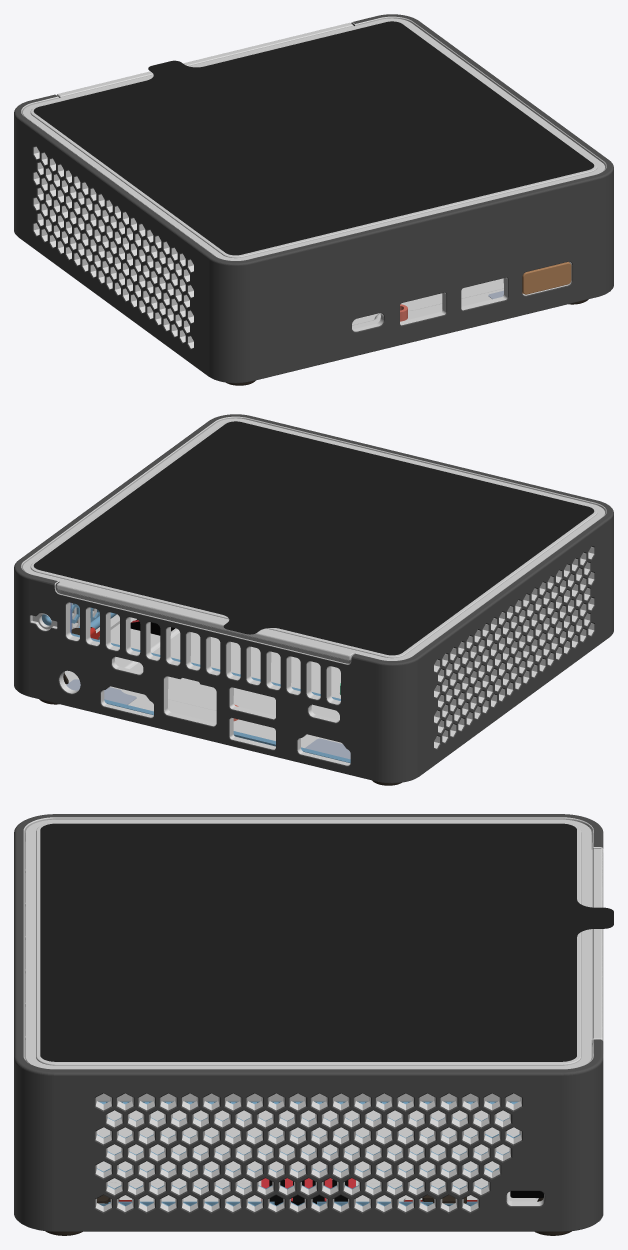
Rendered from NUC14PRO_slim.obj.
3 views of the same model, one above another, from view 1: azimuth 30°, elevation 25°; view 2: azimuth 150°, elevation 25°; view 3: azimuth 270°, elevation 25° (orthographic). The views are drawn at different scales.
Visible parts, largest first — view 1: obj9, obj6, obj2, obj1, obj5, obj3, obj25; view 2: obj9, obj2, obj1, obj3, obj5, obj6, obj4, obj37; view 3: obj9, obj2, obj3, obj6, obj1, obj5, obj11, obj4, obj18.
Boxes of the visible parts, x1,y1,x2,y2 form: obj9: (33, 21, 594, 255); obj6: (18, 169, 613, 383); obj2: (14, 14, 613, 375); obj1: (22, 18, 605, 348); obj5: (21, 16, 606, 331); obj3: (352, 278, 503, 329); obj25: (522, 261, 571, 294); obj9: (33, 421, 594, 655); obj2: (14, 414, 613, 783); obj1: (22, 418, 605, 765); obj3: (30, 585, 351, 747); obj5: (21, 416, 606, 666); obj6: (29, 515, 613, 776); obj4: (42, 604, 350, 763); obj37: (66, 679, 350, 759); obj9: (40, 823, 613, 1061); obj2: (14, 814, 603, 1231); obj3: (97, 850, 603, 1211); obj6: (14, 1045, 592, 1231); obj1: (25, 819, 603, 1069); obj5: (23, 817, 593, 1211); obj11: (99, 1117, 520, 1206); obj4: (97, 1101, 518, 1206); obj18: (45, 1195, 571, 1235).
Bounding box in the file's own units: 117 × 36.95 × 114.
